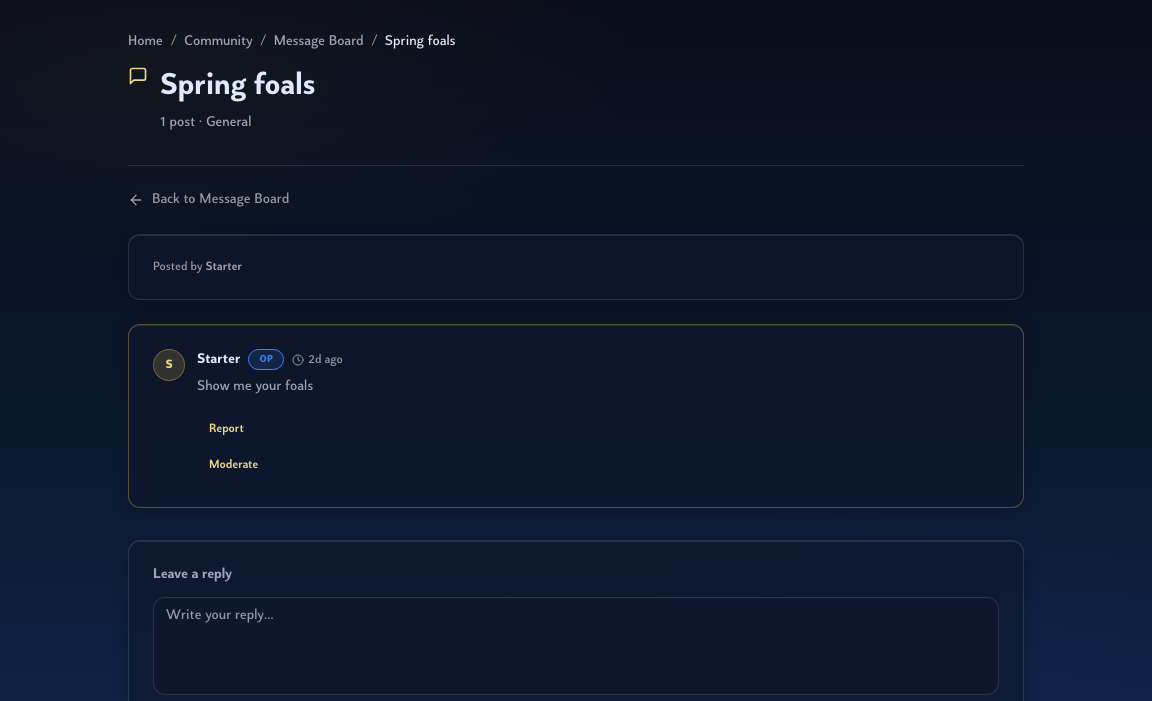
Test: MessageThreadPage: held posts and steward tools › removing the opening post removes the thread and returns to the board
Click the button "Moderate" at (234, 465), box x1=197 y1=447 x2=270 y2=483
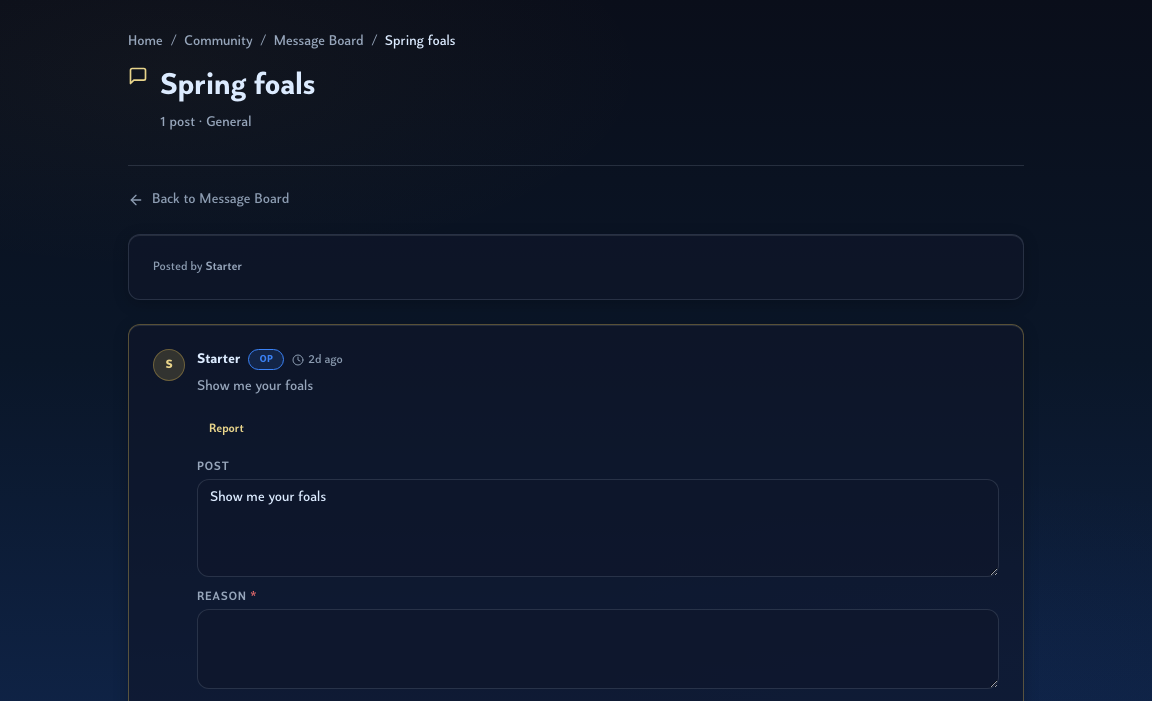
Type "Spam" into the text box labelled "Reason *" at (598, 649), box x1=197 y1=609 x2=999 y2=689
(page scrolled)
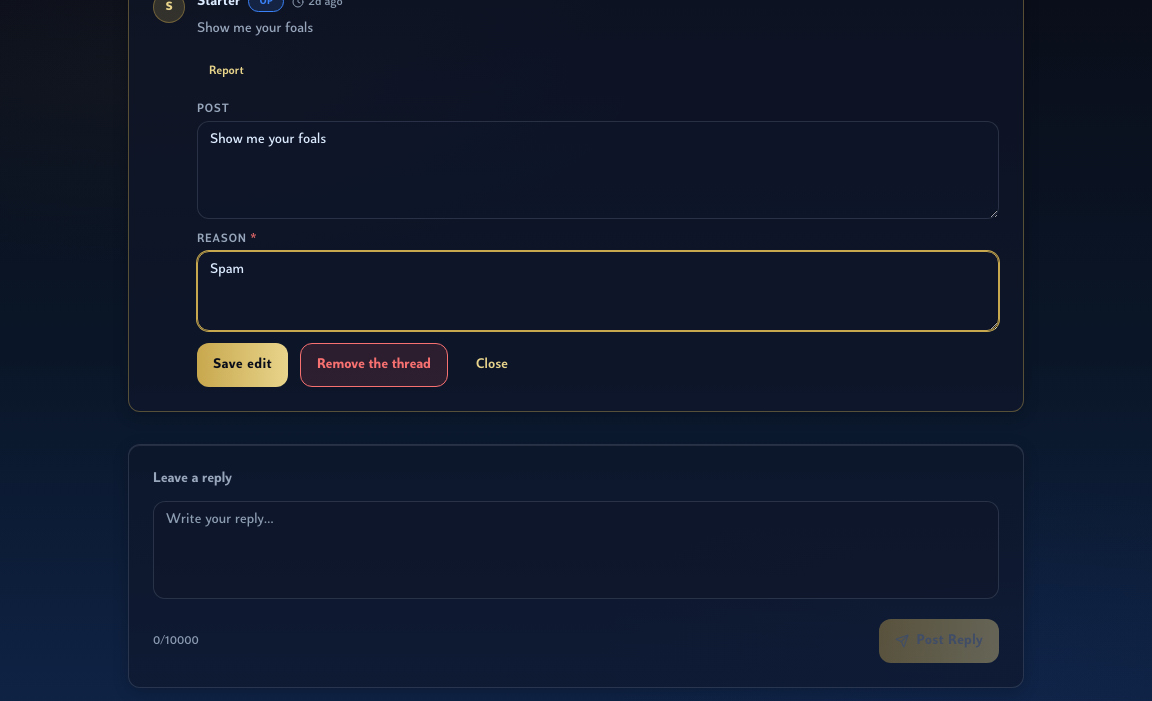
Click the button "Remove the thread" at (374, 365), box x1=300 y1=343 x2=448 y2=387
(page scrolled)
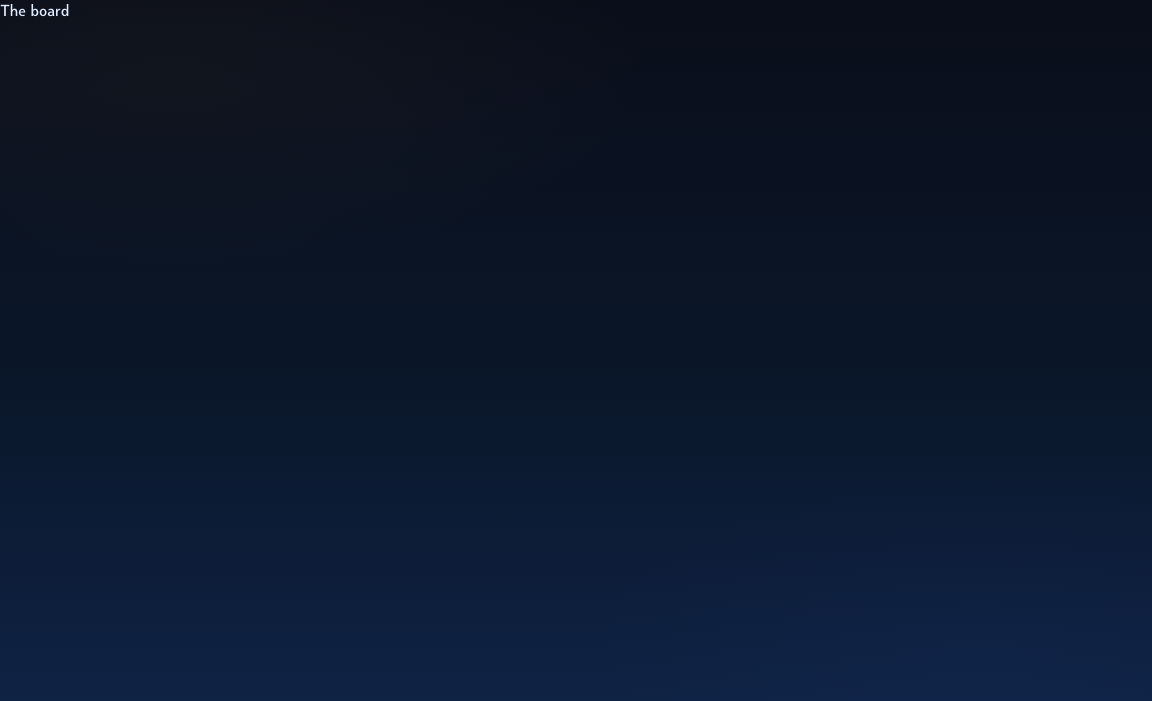
Result: the text "The board" is shown at x1=0 y1=4 x2=69 y2=20
